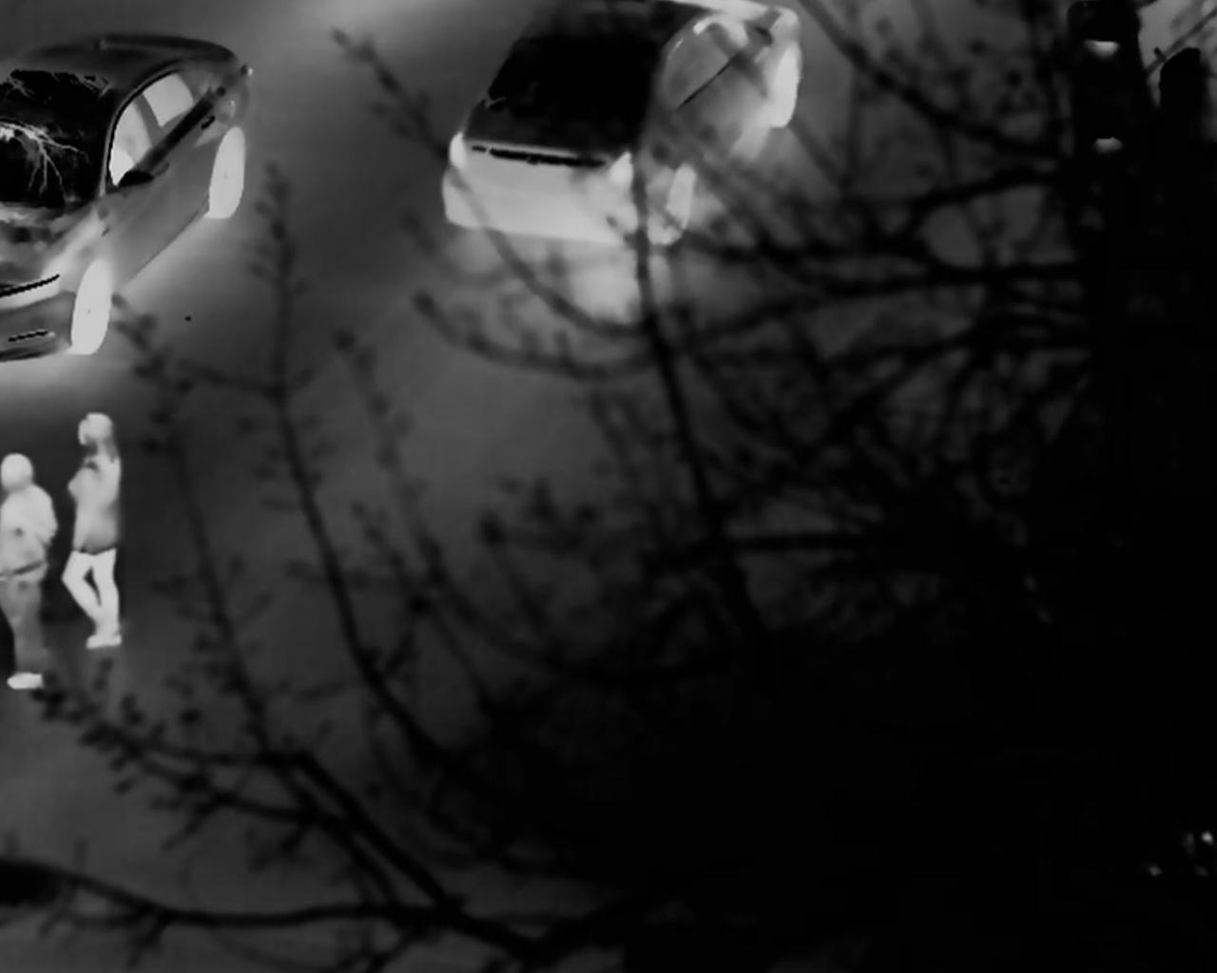person: (62, 419, 128, 642)
